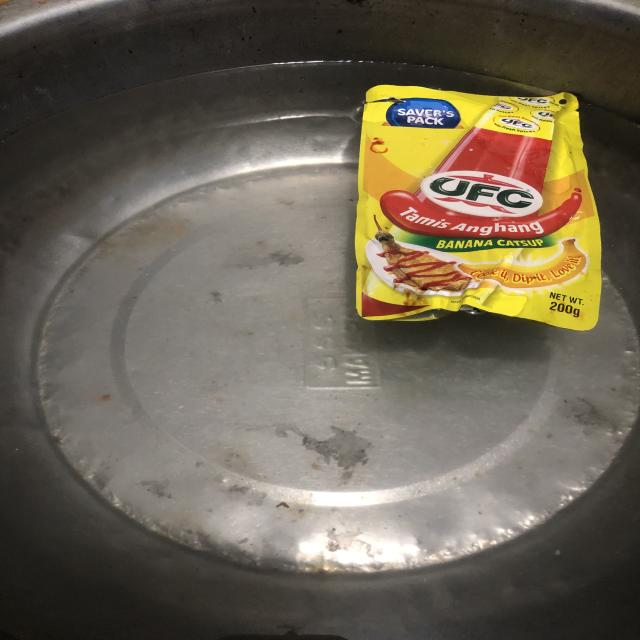Plastic Pouch: (355, 85, 601, 330)
